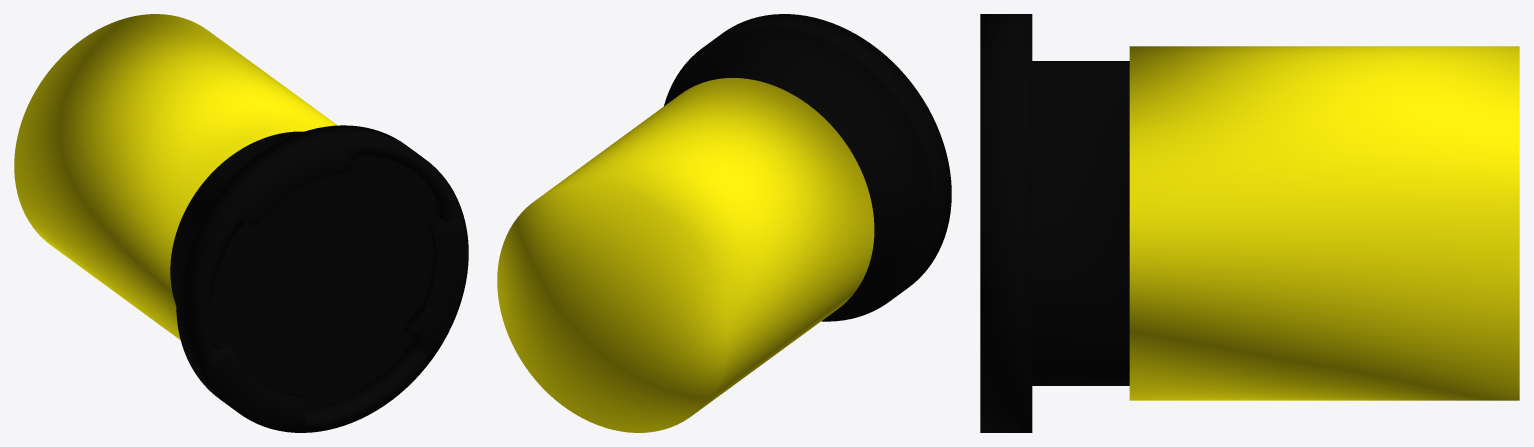
3 views of the same model, side by side, from view 1: azimuth 30°, elevation 25°; view 2: azimuth 150°, elevation 25°; view 3: azimuth 270°, elevation 25° (orthographic). The views are drawn at different scales.
Parts seen in each view (by area): view 1: transform1; view 2: transform1; view 3: transform1.
Part boxes in pixels (<box>): transform1: <box>14,14,468,432</box>; transform1: <box>497,14,951,432</box>; transform1: <box>980,14,1519,432</box>.
Bounding box in the file's own units: 0.129 × 0.129 × 0.166.
Materials: 1 (1 with a texture image).
